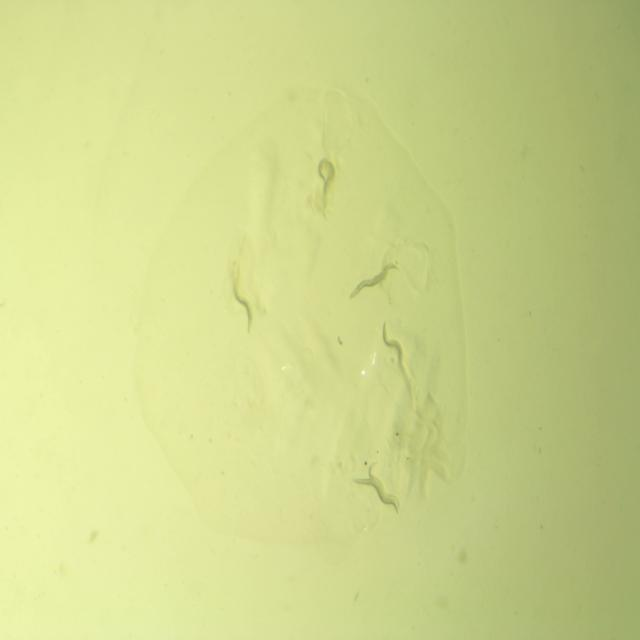worm: (348, 260, 400, 303), (350, 474, 400, 517), (366, 458, 401, 512), (228, 282, 256, 337), (378, 318, 407, 370), (317, 155, 337, 206)
